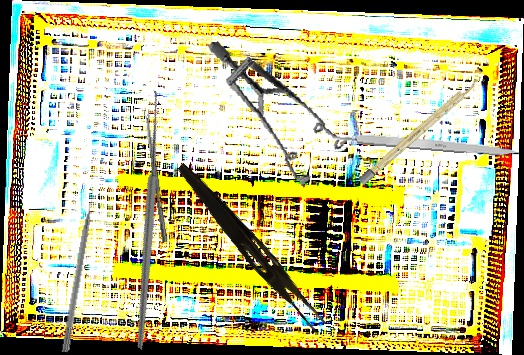Dressing Forceps: (168, 160, 333, 334)
Hook Surgical: (19, 83, 268, 351)
Pusher: (61, 187, 99, 354)
Scalpel Handle: (357, 77, 481, 186), (330, 128, 522, 159)
Speculum: (206, 22, 355, 198)
Surgical Spoon: (143, 109, 169, 243)
